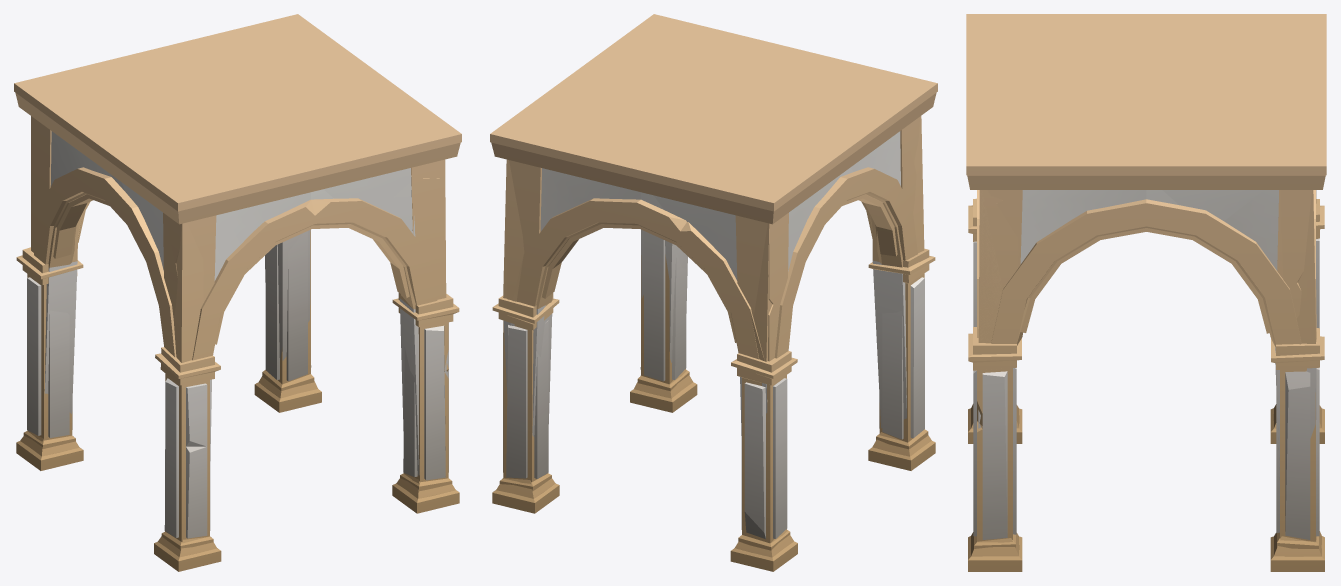
File: Arch 01.fbx
3 views of the same model, side by side, from view 1: azimuth 30°, elevation 25°; view 2: azimuth 150°, elevation 25°; view 3: azimuth 270°, elevation 25° (orthographic). The views are drawn at different scales.
Visible parts, largest first — view 1: Arch 01 high, Arch 01 low, Arch 01; view 2: Arch 01 high, Arch 01 low, Arch 01; view 3: Arch 01 high, Arch 01 low, Arch 01.
Boxes of the visible parts, box(x1,y1,x2,y2) form: Arch 01 high: box(14, 14, 461, 571); Arch 01 low: box(15, 93, 460, 477); Arch 01: box(20, 161, 455, 557); Arch 01 high: box(490, 14, 937, 571); Arch 01 low: box(491, 93, 936, 448); Arch 01: box(496, 160, 931, 557); Arch 01 high: box(966, 14, 1326, 571); Arch 01 low: box(967, 175, 1325, 453); Arch 01: box(971, 190, 1321, 556).
Size of the model in its own units: 3.79 by 4.71 by 3.79.
Materials: 1 (1 with a texture image).
